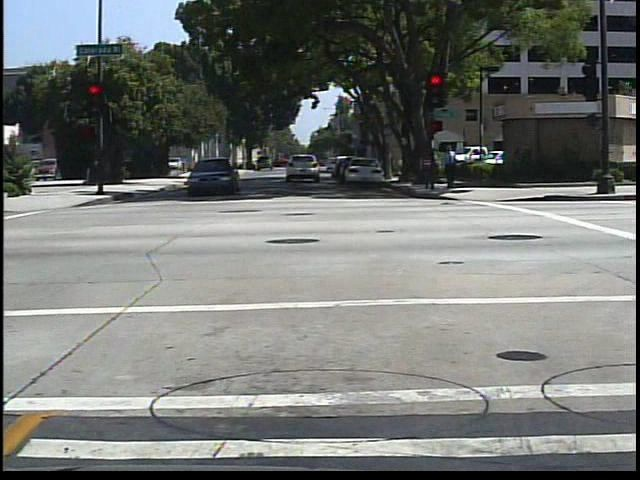person: (438, 138, 462, 191)
